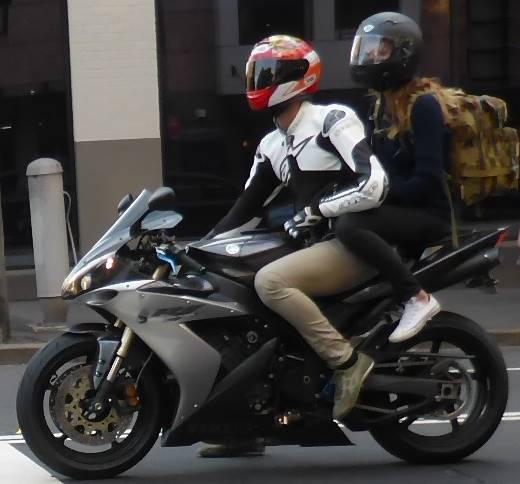helmet: (217, 25, 328, 119), (346, 5, 430, 99)
